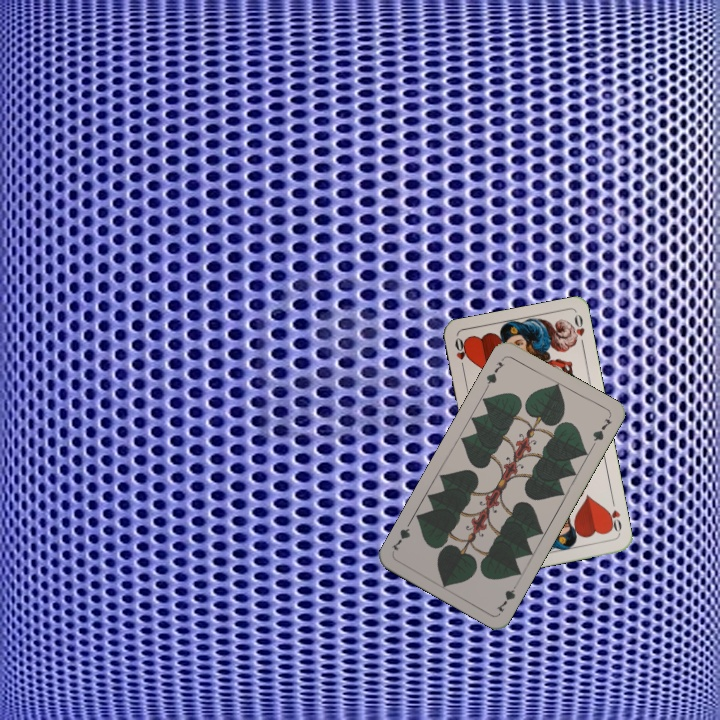G7: (493, 578, 521, 615), (482, 353, 507, 391)
HO: (603, 496, 624, 536), (451, 334, 471, 374)
